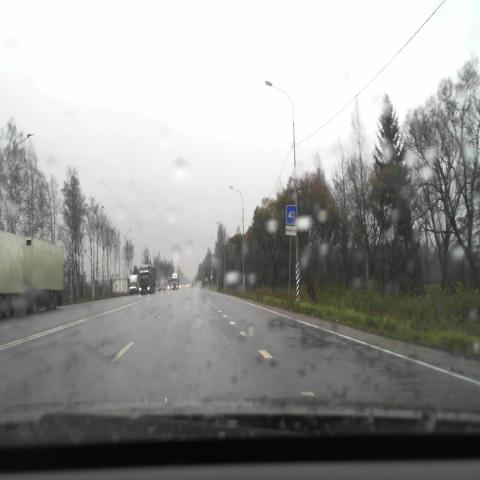6_2: (286, 205, 297, 224)
